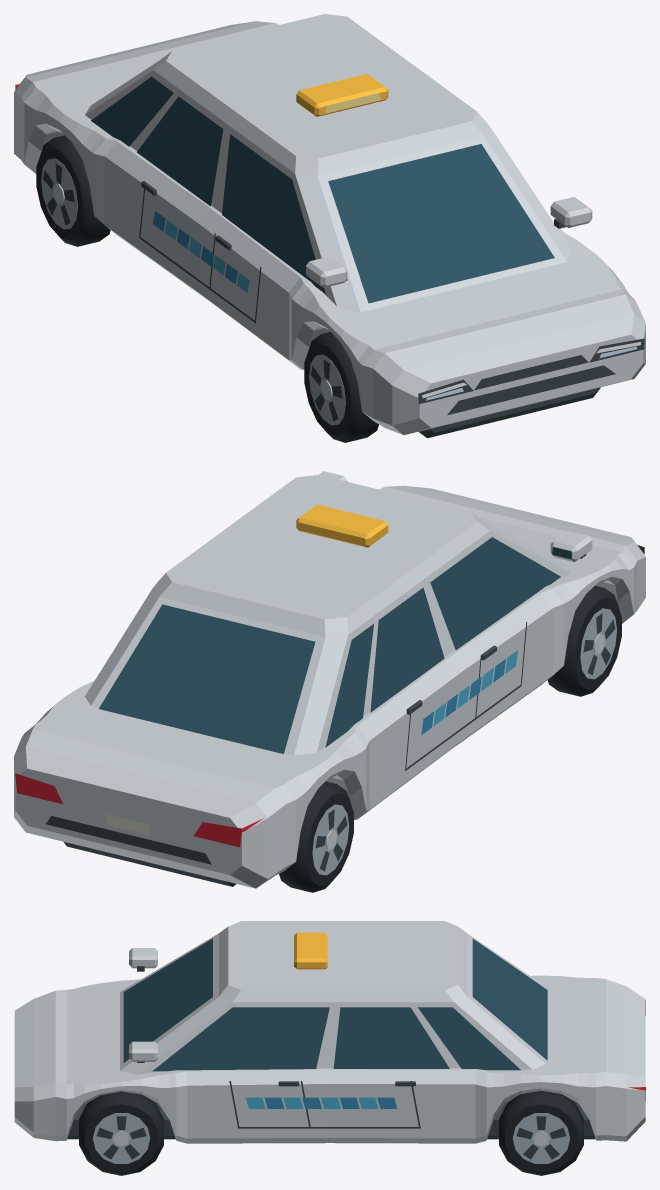
The model's file is car_sedan.glb.
The picture shows the model from 3 angles, top to bottom: view 1: azimuth 30°, elevation 25°; view 2: azimuth 150°, elevation 25°; view 3: azimuth 270°, elevation 25°; orthographic projection. The views are drawn at different scales.
Parts seen in each view (by area): view 1: car_sedan; view 2: car_sedan; view 3: car_sedan.
Part boxes in pixels (x1=…): car_sedan: x1=14, y1=14, x2=645, y2=442; car_sedan: x1=14, y1=471, x2=645, y2=892; car_sedan: x1=14, y1=921, x2=645, y2=1175.
Bounding box in the file's own units: 1.8 × 1.45 × 4.6.
